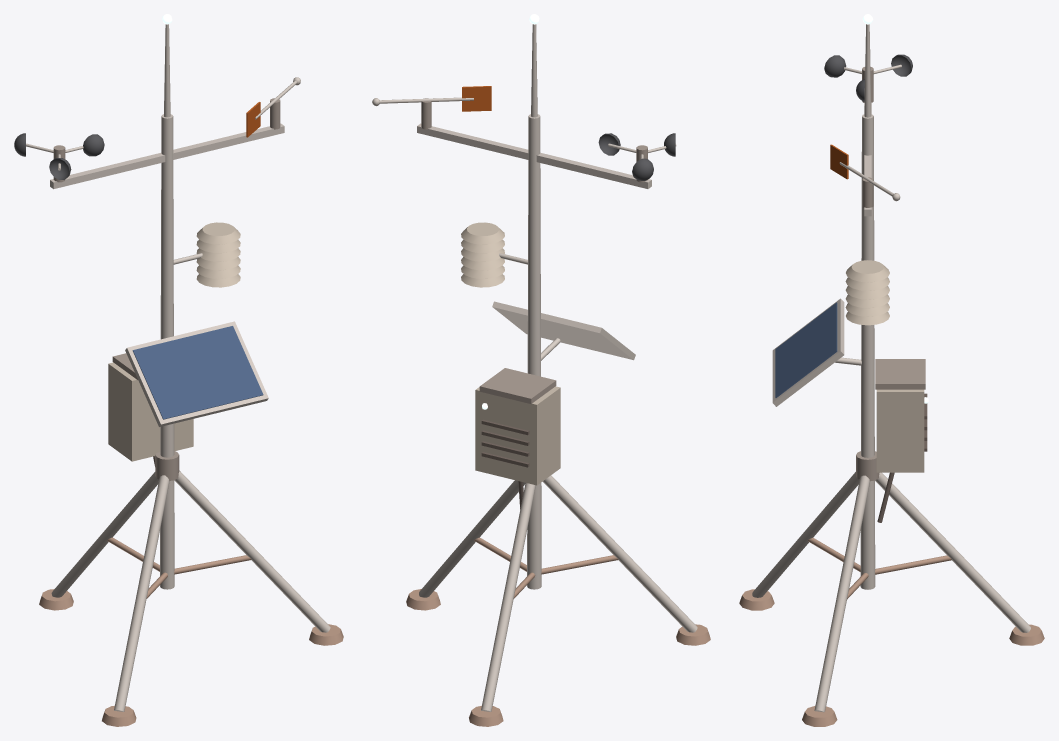
The model's file is D22_weather_station.glb.
3 renders of one model, left to right at view 1: azimuth 30°, elevation 25°; view 2: azimuth 150°, elevation 25°; view 3: azimuth 270°, elevation 25°, orthographic.
Parts seen in each view (by area): view 1: tripod_leg, tripod_foot, vane_tail, tripod_hub, cup; view 2: tripod_leg, vane_tail, tripod_foot, tripod_hub, cup; view 3: tripod_leg, vane_tail, tripod_foot, tripod_hub, cup.
Boxes of the visible parts, box(x1,y1,x2,y2) form: tripod_leg: box(26, 24, 330, 711); tripod_foot: box(39, 326, 343, 726); vane_tail: box(108, 102, 260, 466); tripod_hub: box(53, 98, 280, 480); cup: box(14, 133, 104, 179); tripod_leg: box(372, 24, 697, 711); vane_tail: box(461, 86, 560, 509); tripod_foot: box(406, 537, 710, 726); tripod_hub: box(421, 98, 647, 403); cup: box(598, 133, 675, 180); tripod_leg: box(752, 24, 1030, 712); vane_tail: box(830, 144, 927, 522); tripod_foot: box(739, 302, 1044, 726); tripod_hub: box(856, 66, 925, 481); cup: box(824, 54, 912, 101).
Size of the model in its own units: 1.11 by 2.38 by 1.03.
